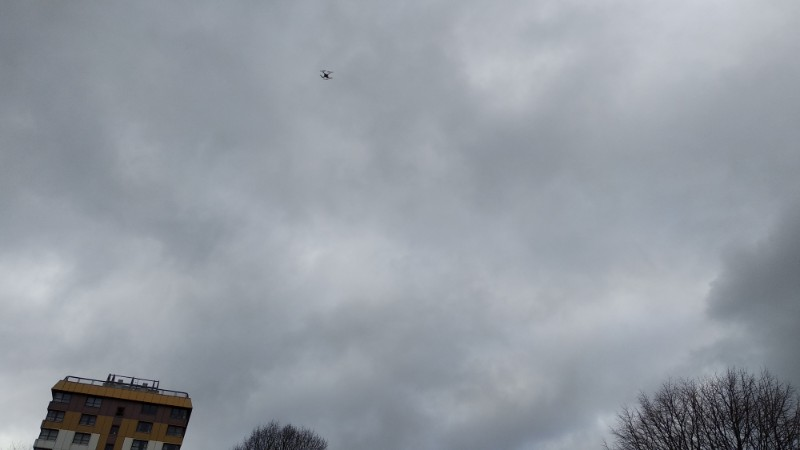drone: (319, 70, 335, 82)
